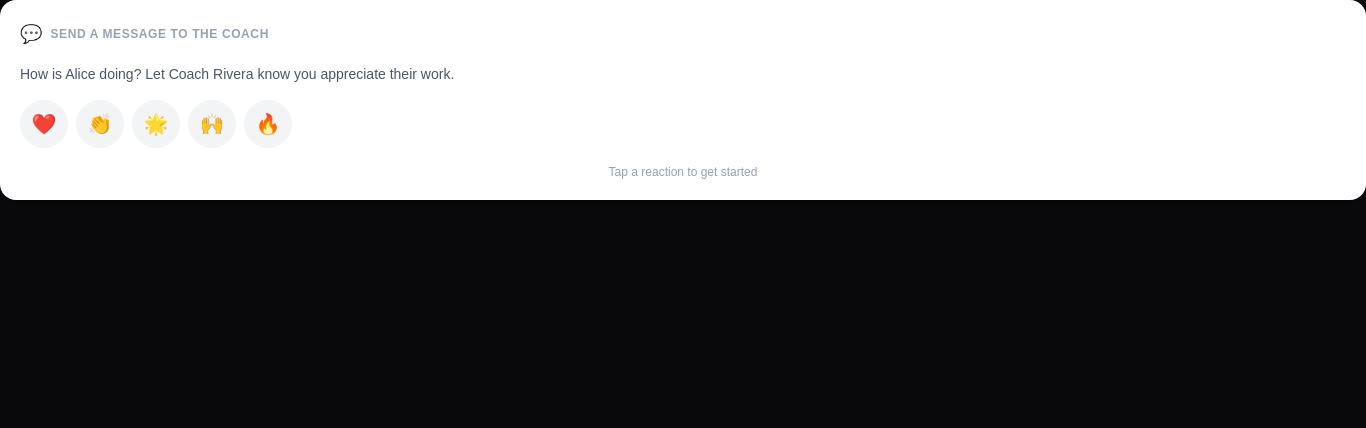
Test: ParentReactionForm — success-screen viral actions (ticket 0022) › outbound URLs expose only ref=<code> — no player/parent/message/token PII
Click the button "❤️" at (44, 124), box x1=20 y1=100 x2=68 y2=148
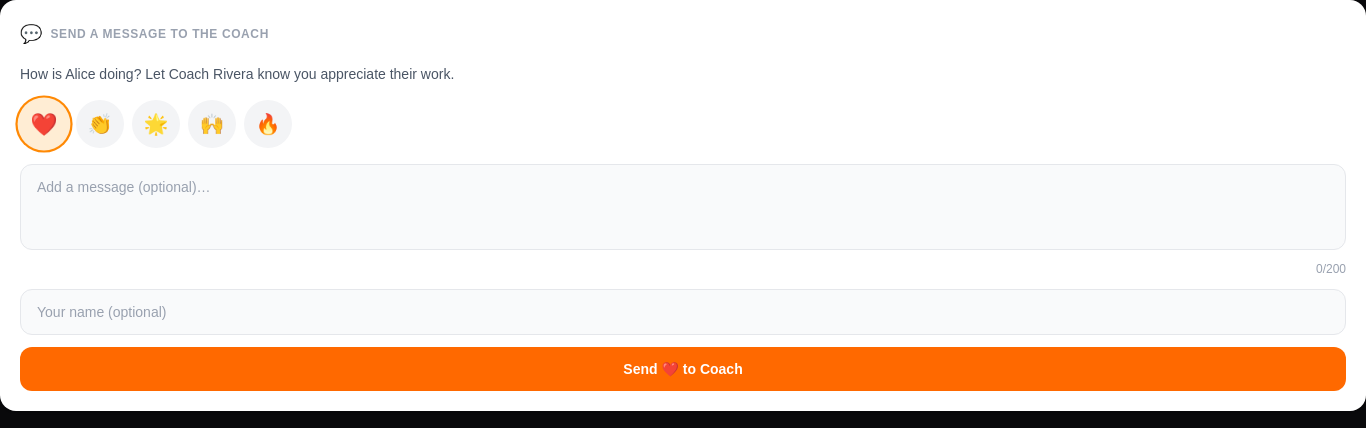
Type "so proud of her" into the text box named "optional message" at (683, 207), box x1=20 y1=164 x2=1346 y2=250
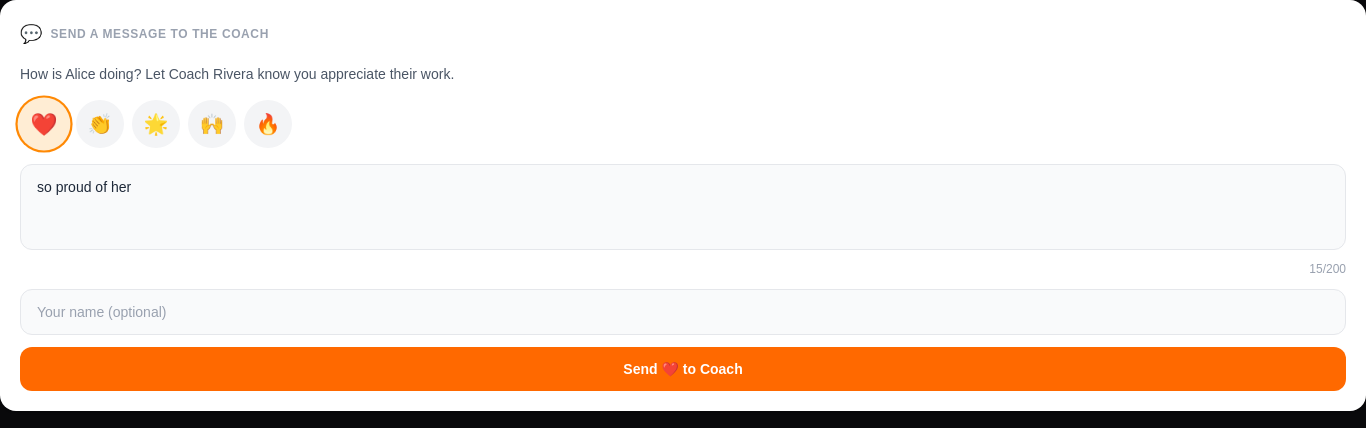
Type "Dana" into the field labelled "Your name (optional)" at (683, 312), box x1=20 y1=289 x2=1346 y2=335
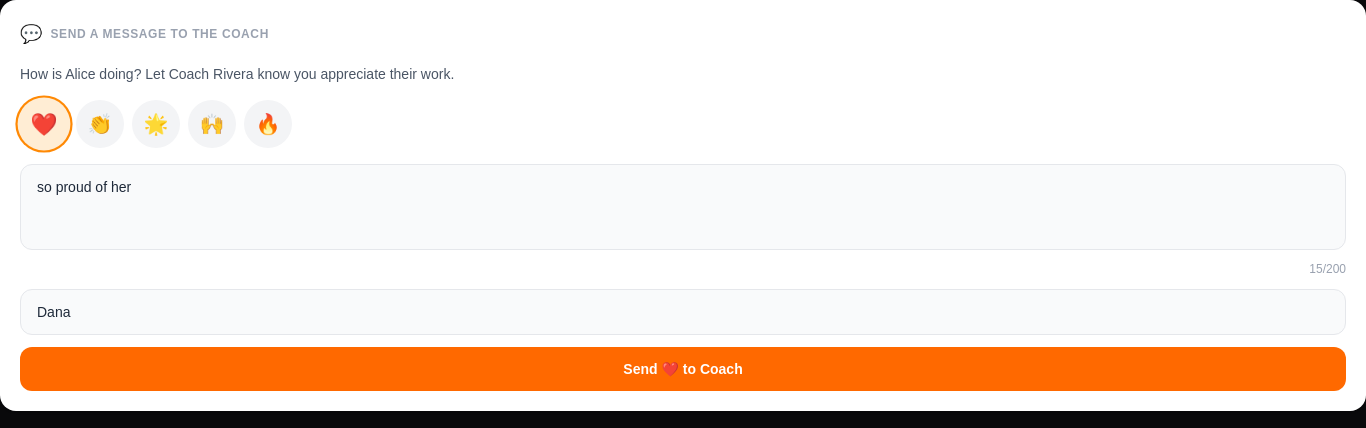
Click the button "Send ❤️ to Coach" at (683, 369), box x1=20 y1=347 x2=1346 y2=391
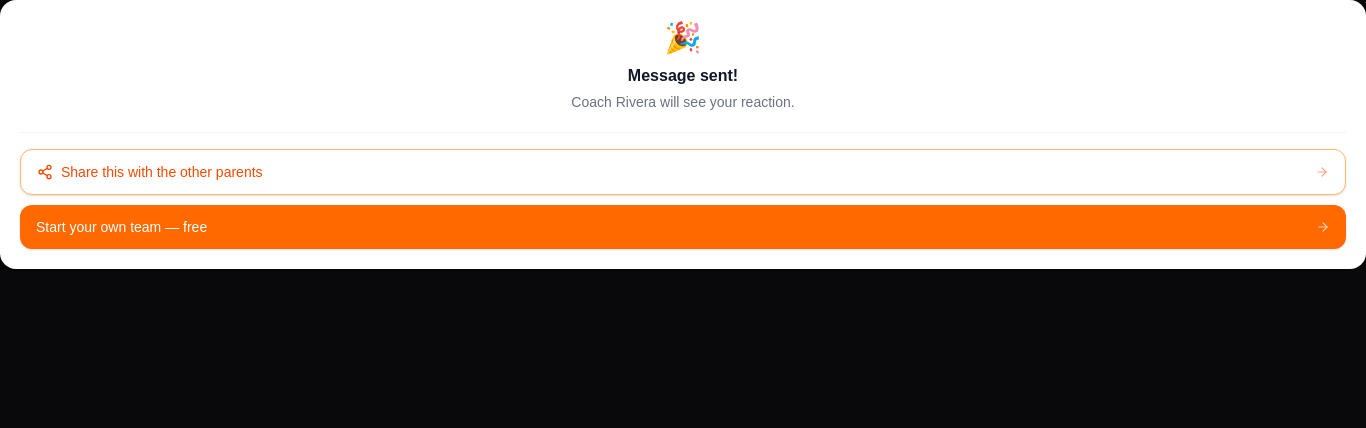
Expected: the text "Message sent!" is shown, x1=628 y1=67 x2=738 y2=84
